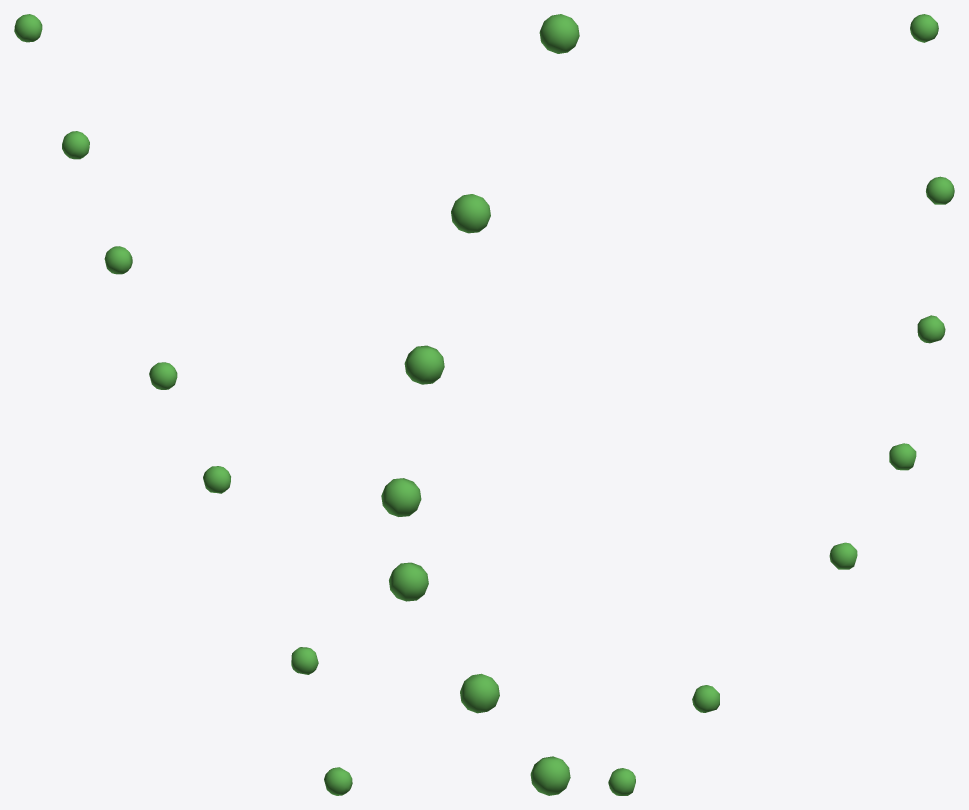
The model's file is linfatico-intermediate-external-iliac-nodes-l.glb.
The picture shows the model from 3 angles, left to right: view 1: azimuth 30°, elevation 25°; view 2: azimuth 150°, elevation 25°; view 3: azimuth 270°, elevation 25°; orthographic projection. The views are drawn at different scales.
Parts seen in each view (by area): view 1: Intermediate external iliac nodes.l; view 2: Intermediate external iliac nodes.l; view 3: Intermediate external iliac nodes.l.
Boxes of the visible parts, <box> form: Intermediate external iliac nodes.l: <box>14,14,352,795</box>; Intermediate external iliac nodes.l: <box>381,14,579,795</box>; Intermediate external iliac nodes.l: <box>608,14,954,795</box>.
Bounding box in the file's own units: 0.0197 × 0.0696 × 0.0311.
